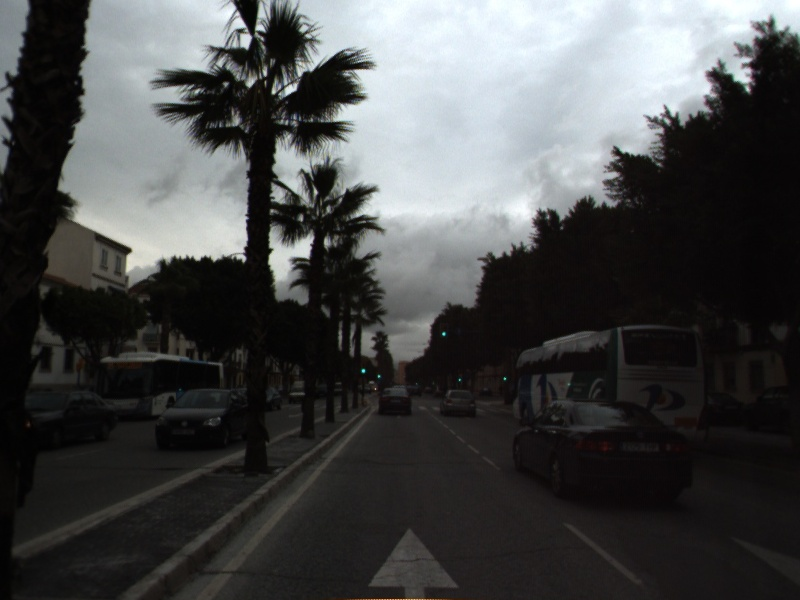STRAIGHT: (364, 522, 463, 600)
